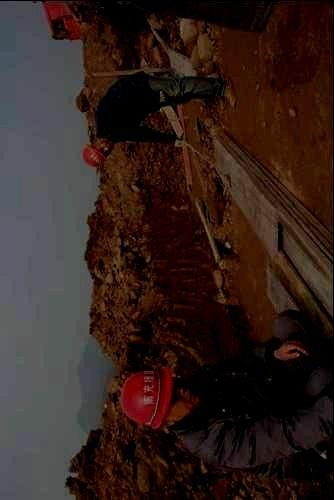helmet: (119, 365, 200, 430), (82, 137, 114, 167)
